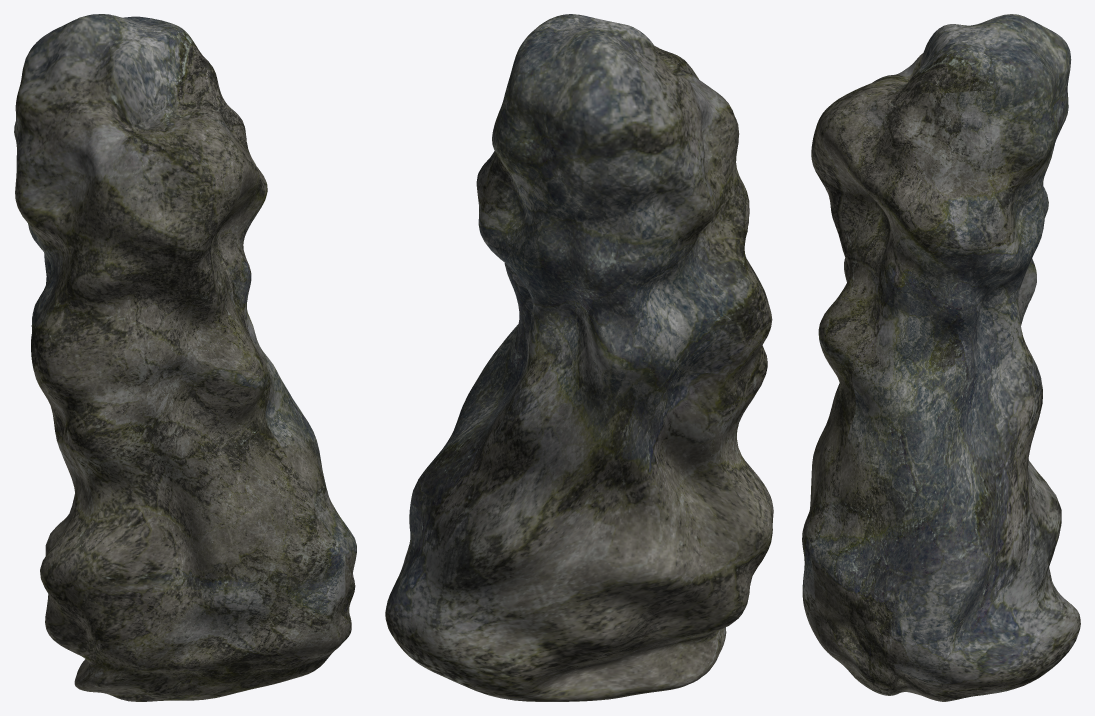
The model's file is Rock1.obj.
3 renders of one model, left to right at view 1: azimuth 30°, elevation 25°; view 2: azimuth 150°, elevation 25°; view 3: azimuth 270°, elevation 25°, orthographic. The views are drawn at different scales.
Parts seen in each view (by area): view 1: Cube; view 2: Cube; view 3: Cube.
Boxes of the visible parts, box(x1,y1,x2,y2) form: Cube: box(14, 14, 356, 701); Cube: box(385, 14, 773, 701); Cube: box(802, 14, 1080, 701).
Size of the model in its own units: 3.05 by 5.87 by 2.38.
